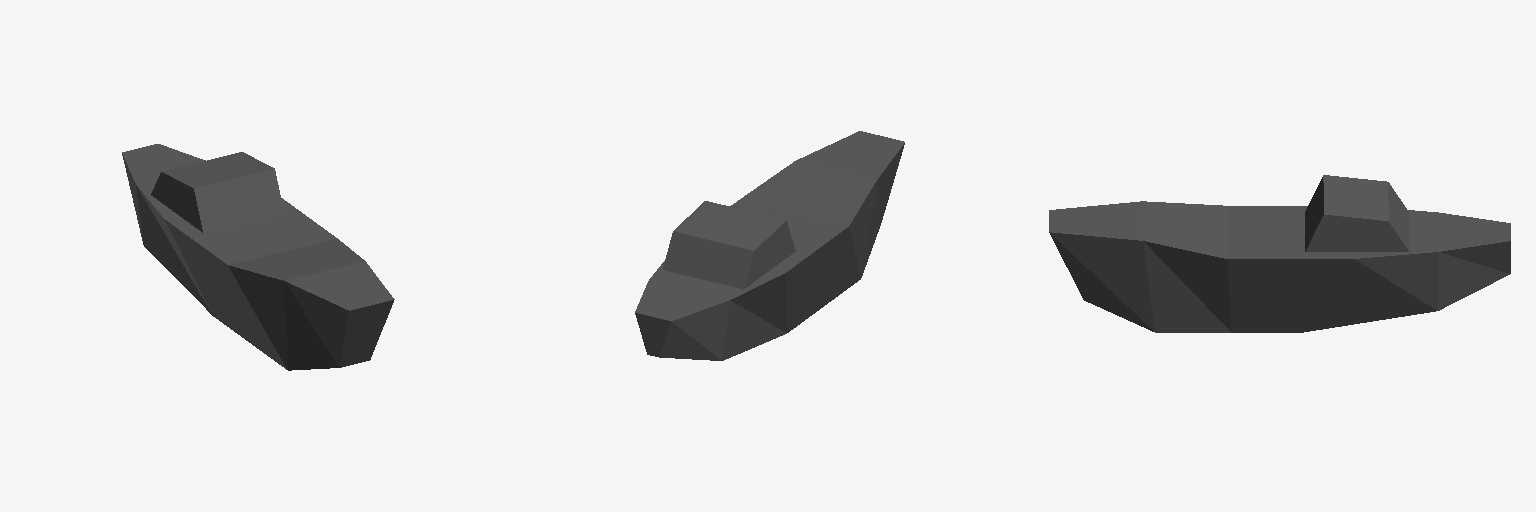
Rendered from boat.obj.
3 renders of one model, left to right at view 1: azimuth 30°, elevation 25°; view 2: azimuth 150°, elevation 25°; view 3: azimuth 270°, elevation 25°, orthographic.
Parts seen in each view (by area): view 1: Cube; view 2: Cube; view 3: Cube.
Boxes of the visible parts, box(x1,y1,x2,y2) form: Cube: box(122, 144, 394, 370); Cube: box(635, 131, 904, 360); Cube: box(1049, 175, 1510, 332).
Bounding box in the file's own units: 2.7 × 2.89 × 9.84.